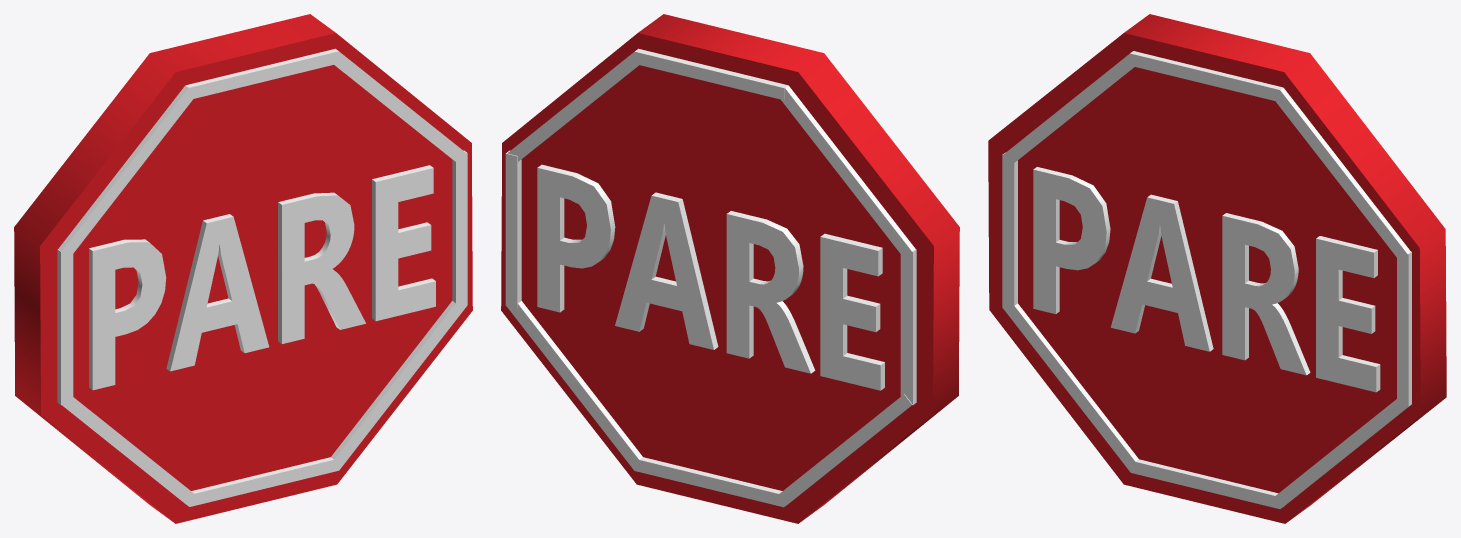
File: pare.glb
The picture shows the model from 3 angles, left to right: view 1: azimuth 30°, elevation 25°; view 2: azimuth 150°, elevation 25°; view 3: azimuth 330°, elevation 25°; orthographic projection.
Visible parts, largest first — view 1: mesh_id152, mesh_id259, mesh_id166, mesh_id200, mesh_id212, mesh_id218, mesh_id224, mesh_id230, mesh_id206, mesh_id194; view 2: mesh_id152, mesh_id251, mesh_id200, mesh_id166, mesh_id224, mesh_id230, mesh_id212, mesh_id218, mesh_id194, mesh_id206; view 3: mesh_id152, mesh_id259, mesh_id206, mesh_id194, mesh_id218, mesh_id212, mesh_id230, mesh_id224, mesh_id166, mesh_id200.
Part boxes in pixels (bbox=[...]): mesh_id152: bbox=[14, 14, 472, 523]; mesh_id259: bbox=[89, 165, 435, 390]; mesh_id166: bbox=[58, 85, 196, 258]; mesh_id200: bbox=[331, 301, 466, 469]; mesh_id212: bbox=[57, 249, 73, 405]; mesh_id218: bbox=[189, 457, 339, 506]; mesh_id224: bbox=[452, 150, 467, 307]; mesh_id230: bbox=[185, 48, 338, 98]; mesh_id206: bbox=[331, 51, 465, 161]; mesh_id194: bbox=[62, 397, 193, 506]; mesh_id152: bbox=[501, 14, 959, 523]; mesh_id251: bbox=[537, 164, 884, 390]; mesh_id200: bbox=[507, 301, 642, 470]; mesh_id166: bbox=[781, 85, 915, 258]; mesh_id224: bbox=[505, 150, 521, 308]; mesh_id230: bbox=[634, 48, 788, 100]; mesh_id212: bbox=[900, 249, 916, 404]; mesh_id218: bbox=[635, 457, 783, 507]; mesh_id194: bbox=[776, 394, 912, 506]; mesh_id206: bbox=[507, 52, 638, 161]; mesh_id152: bbox=[988, 14, 1446, 523]; mesh_id259: bbox=[1033, 167, 1380, 392]; mesh_id206: bbox=[1272, 88, 1410, 257]; mesh_id194: bbox=[1003, 303, 1138, 471]; mesh_id218: bbox=[1130, 459, 1280, 508]; mesh_id212: bbox=[1002, 152, 1017, 310]; mesh_id230: bbox=[1130, 51, 1283, 100]; mesh_id224: bbox=[1397, 251, 1411, 406]; mesh_id166: bbox=[1002, 54, 1137, 165]; mesh_id200: bbox=[1276, 399, 1408, 508].
Bounding box in the file's own units: 0.3234 × 0.3227 × 0.0442.
Materials: 10 (10 with a texture image).
